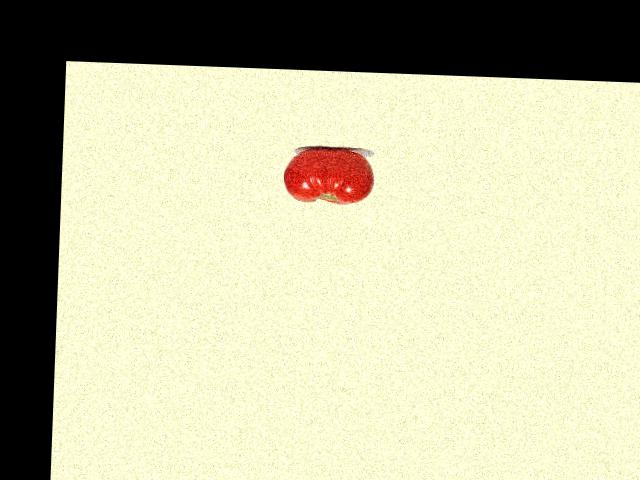tomato: (282, 147, 374, 205)
